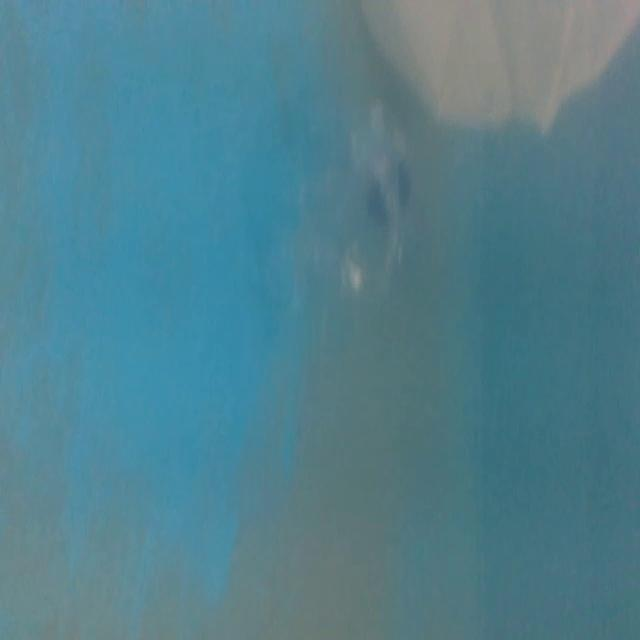plastic bags: (358, 0, 638, 124)
